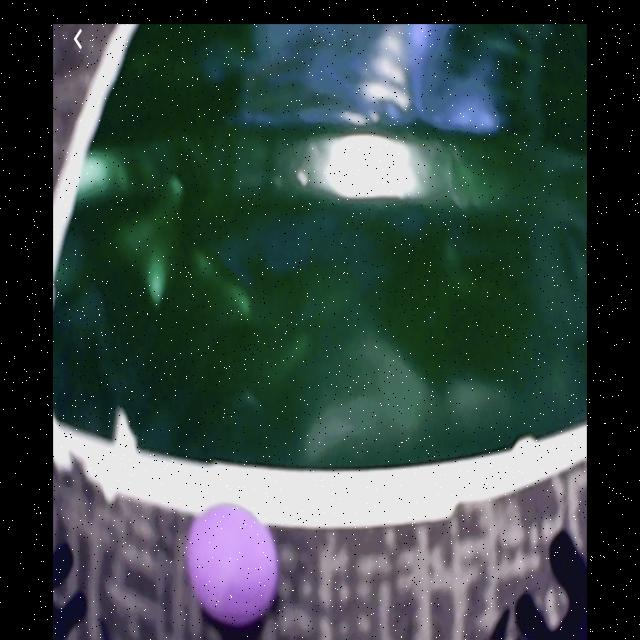ball: (190, 503, 280, 622)
